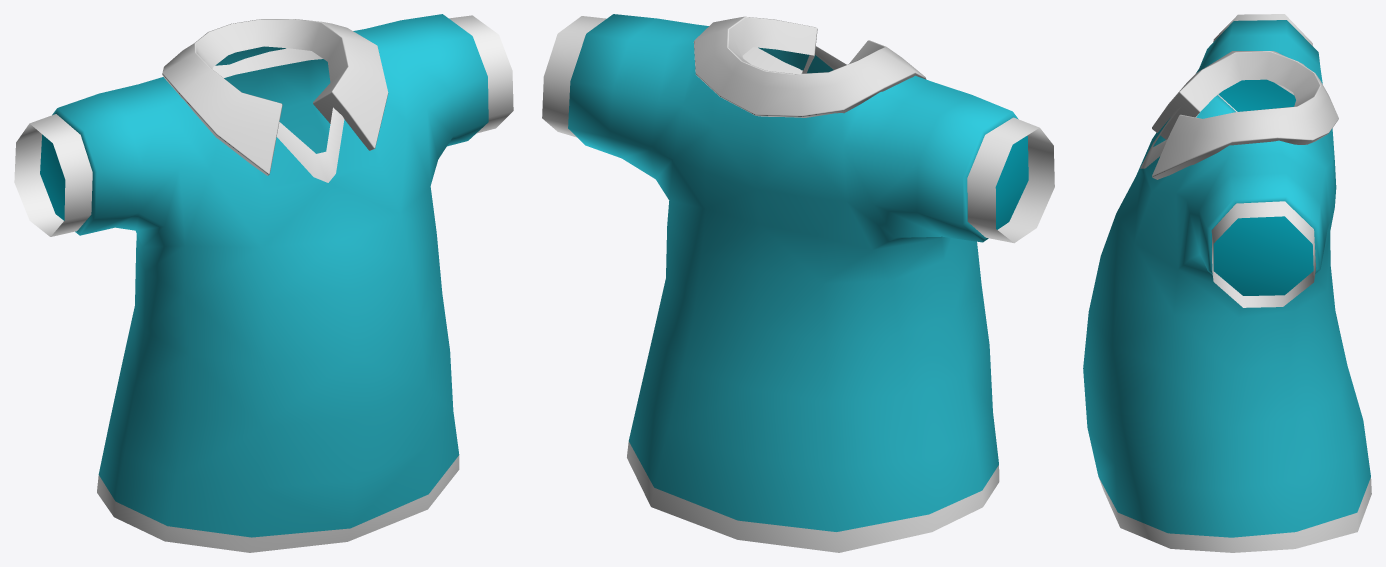
The model's file is Outerwear_Light_Blue_011.glb.
3 views of the same model, side by side, from view 1: azimuth 30°, elevation 25°; view 2: azimuth 150°, elevation 25°; view 3: azimuth 270°, elevation 25° (orthographic). The views are drawn at different scales.
Visible parts, largest first — view 1: Outerwear_Light_Blue_011; view 2: Outerwear_Light_Blue_011; view 3: Outerwear_Light_Blue_011.
Part boxes in pixels (x1,y1,x2,y2): Outerwear_Light_Blue_011: (14, 14, 513, 552); Outerwear_Light_Blue_011: (542, 14, 1054, 552); Outerwear_Light_Blue_011: (1083, 14, 1371, 552).
Bounding box in the file's own units: 0.6893 × 0.6487 × 0.41.
Materials: 1 (1 with a texture image).
